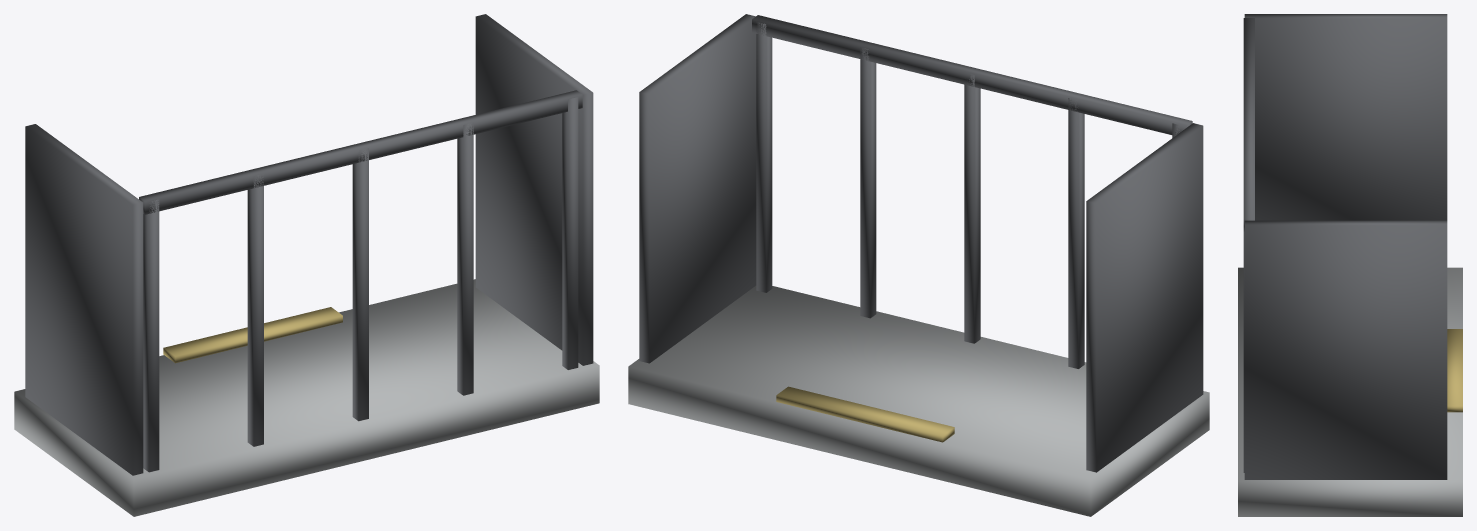
The model's file is motel_w180_d80_door.glb.
The picture shows the model from 3 angles, left to right: view 1: azimuth 30°, elevation 25°; view 2: azimuth 150°, elevation 25°; view 3: azimuth 270°, elevation 25°; orthographic projection. The views are drawn at different scales.
Visible parts, largest first — view 1: world; view 2: world; view 3: world.
Part boxes in pixels (x1,y1,x2,y2): world: [14, 14, 599, 516]; world: [628, 14, 1209, 516]; world: [1238, 14, 1462, 516].
Bounding box in the file's own units: 1.8 × 1.14 × 0.8.
